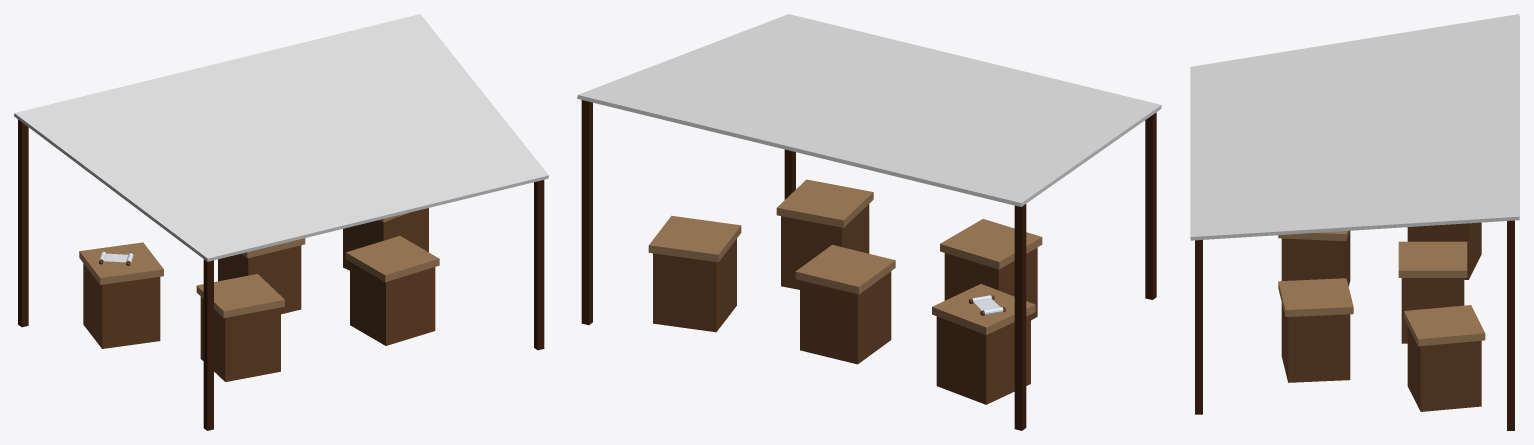
The model's file is Philosophieschule.fbx.
3 views of the same model, side by side, from view 1: azimuth 30°, elevation 25°; view 2: azimuth 150°, elevation 25°; view 3: azimuth 270°, elevation 25° (orthographic). The views are drawn at different scales.
Visible parts, largest first — view 1: Plane, Sitz4, Sitz3, Sitz5, Stangen, Sitz2, Sitz1; view 2: Plane, Sitz2, Sitz1, Sitz3, Stangen, Sitz4, Sitz5; view 3: Plane, Sitz1, Sitz4, Sitz2, Sitz5, Stangen, Sitz3.
Boxes of the visible parts, bbox=[...] form: Plane: bbox=[14, 14, 548, 261]; Sitz4: bbox=[345, 236, 439, 345]; Sitz3: bbox=[79, 242, 163, 348]; Sitz5: bbox=[196, 274, 284, 381]; Stangen: bbox=[18, 119, 544, 430]; Sitz2: bbox=[218, 238, 305, 314]; Sitz1: bbox=[343, 208, 428, 270]; Plane: bbox=[577, 14, 1161, 206]; Sitz2: bbox=[795, 245, 895, 364]; Sitz1: bbox=[648, 215, 741, 332]; Sitz3: bbox=[932, 284, 1035, 404]; Stangen: bbox=[581, 100, 1156, 430]; Sitz4: bbox=[776, 179, 873, 289]; Sitz5: bbox=[940, 219, 1042, 320]; Plane: bbox=[1190, 14, 1519, 240]; Sitz1: bbox=[1404, 305, 1485, 411]; Sitz4: bbox=[1278, 278, 1353, 382]; Sitz2: bbox=[1398, 241, 1467, 343]; Sitz5: bbox=[1278, 230, 1350, 286]; Stangen: bbox=[1195, 220, 1514, 430]; Sitz3: bbox=[1407, 222, 1481, 279].
Bounding box in the file's own units: 1230 × 609 × 845.
